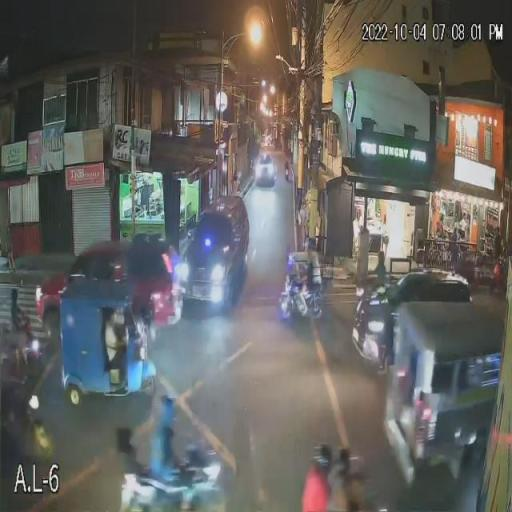helmet: (156, 396, 180, 427), (341, 450, 365, 480), (310, 437, 332, 469), (7, 288, 22, 303)
motorcycle: (112, 452, 232, 512), (1, 324, 50, 373)
rider: (151, 423, 197, 507), (301, 471, 331, 512), (336, 477, 370, 512), (9, 305, 29, 329)
